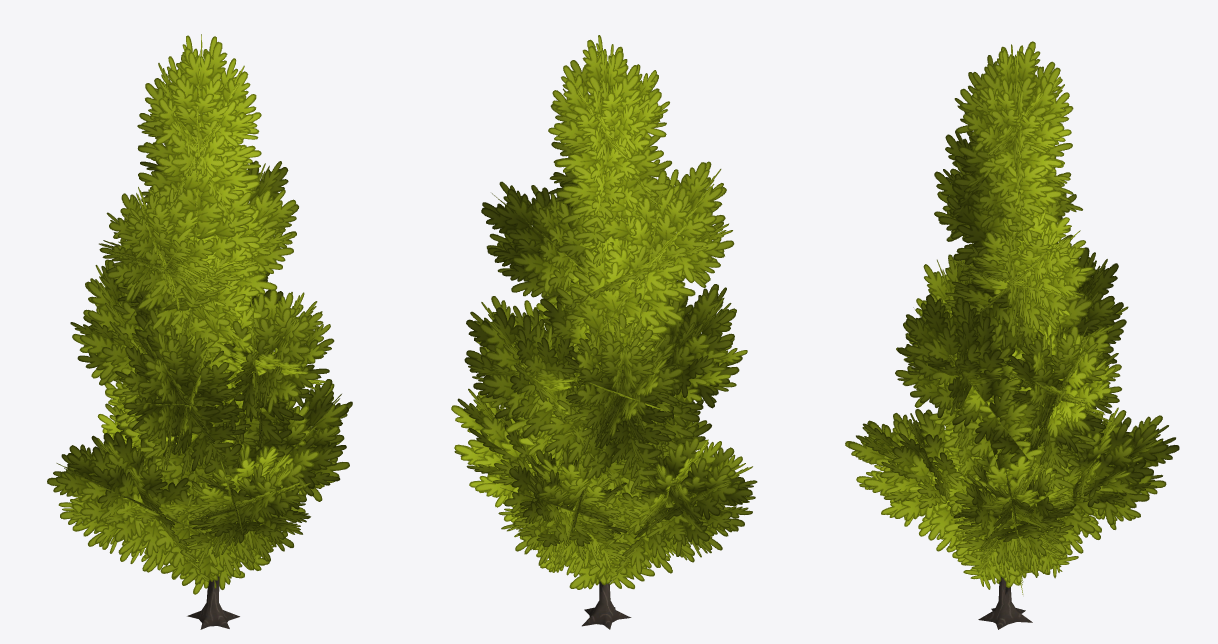
File: LeafTree4.fbx
The picture shows the model from 3 angles, left to right: view 1: azimuth 30°, elevation 25°; view 2: azimuth 150°, elevation 25°; view 3: azimuth 270°, elevation 25°; orthographic projection.
Parts seen in each view (by area): view 1: LeafTree4; view 2: LeafTree4; view 3: LeafTree4.
Boxes of the visible parts, <box> form: LeafTree4: <box>47,34,352,629</box>; LeafTree4: <box>451,35,757,629</box>; LeafTree4: <box>845,41,1179,629</box>.
Bounding box in the file's own units: 17.88 × 28.55 × 17.31.
